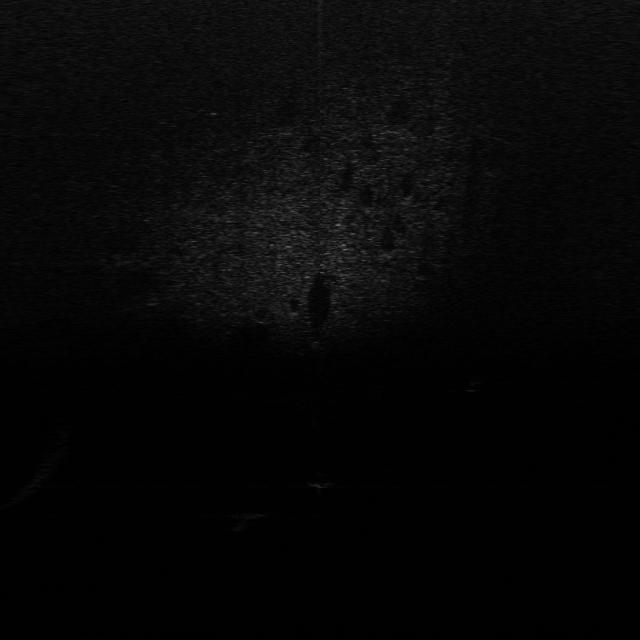ball: (304, 470, 336, 492)
square cage: (223, 503, 269, 530)
tyre: (458, 360, 486, 395)
